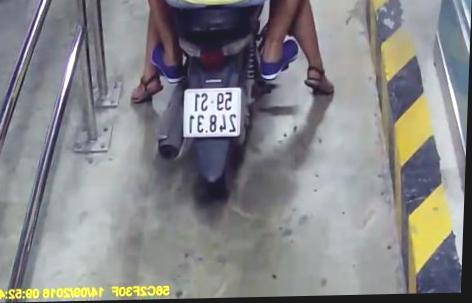License_Plate: (177, 81, 251, 145)
